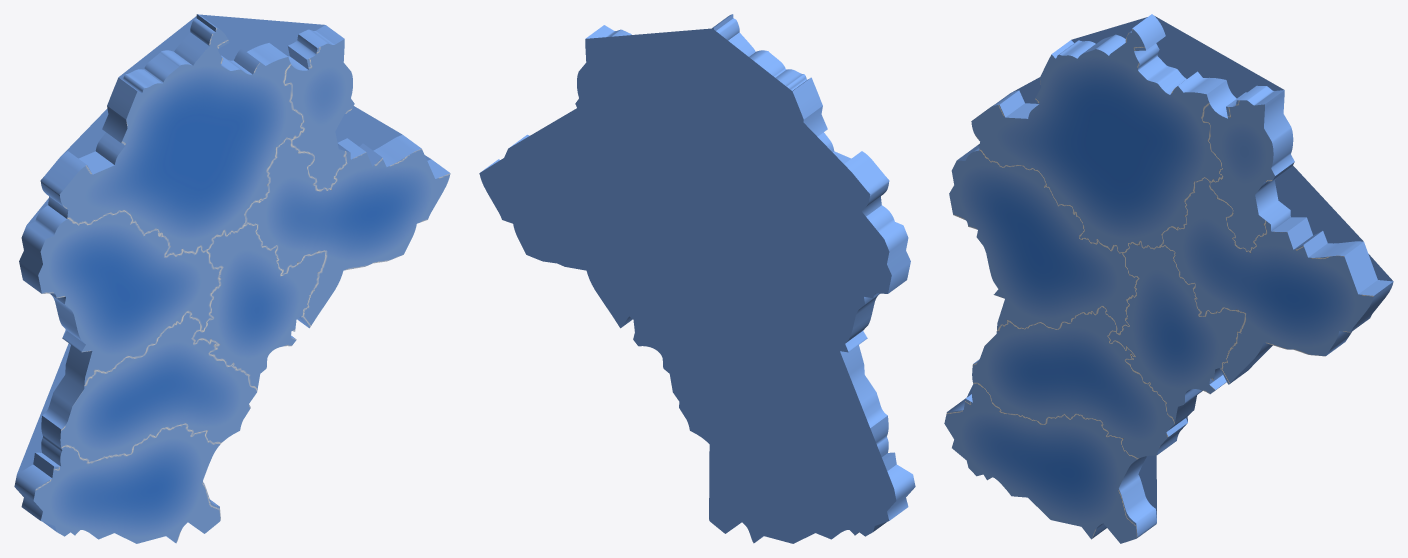
The model's file is 南网地图.fbx.
3 renders of one model, left to right at view 1: azimuth 30°, elevation 25°; view 2: azimuth 150°, elevation 25°; view 3: azimuth 330°, elevation 25°, orthographic. The views are drawn at different scales.
Parts seen in each view (by area): view 1: 立方体, 挤压, 封顶_2; view 2: 封顶_2, 挤压; view 3: 立方体, 挤压, 封顶_2.
Part boxes in pixels (x1,y1,x2,y2): 立方体: (33, 28, 450, 543); 挤压: (14, 14, 450, 541); 封顶_2: (17, 14, 430, 473); 封顶_2: (479, 28, 896, 543); 挤压: (480, 14, 915, 541); 立方体: (944, 29, 1373, 543); 挤压: (947, 14, 1393, 538); 封顶_2: (967, 16, 1392, 517).
Bounding box in the file's own units: 1175 × 1362 × 93.28.
Materials: 2 (1 with a texture image).
